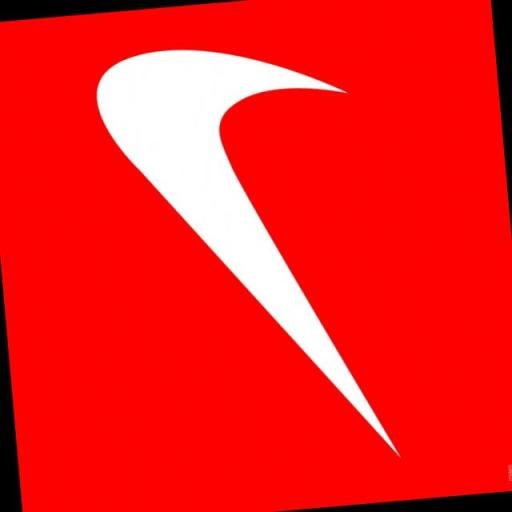Nike: (90, 32, 402, 481)
